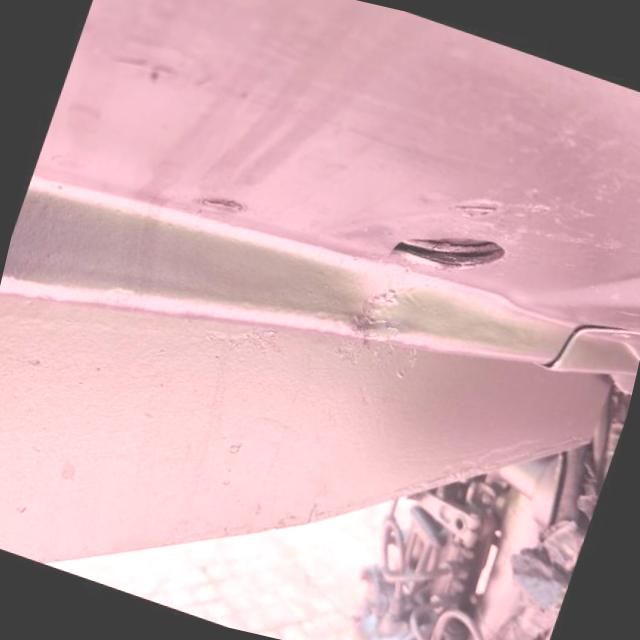dent: (334, 260, 417, 344)
